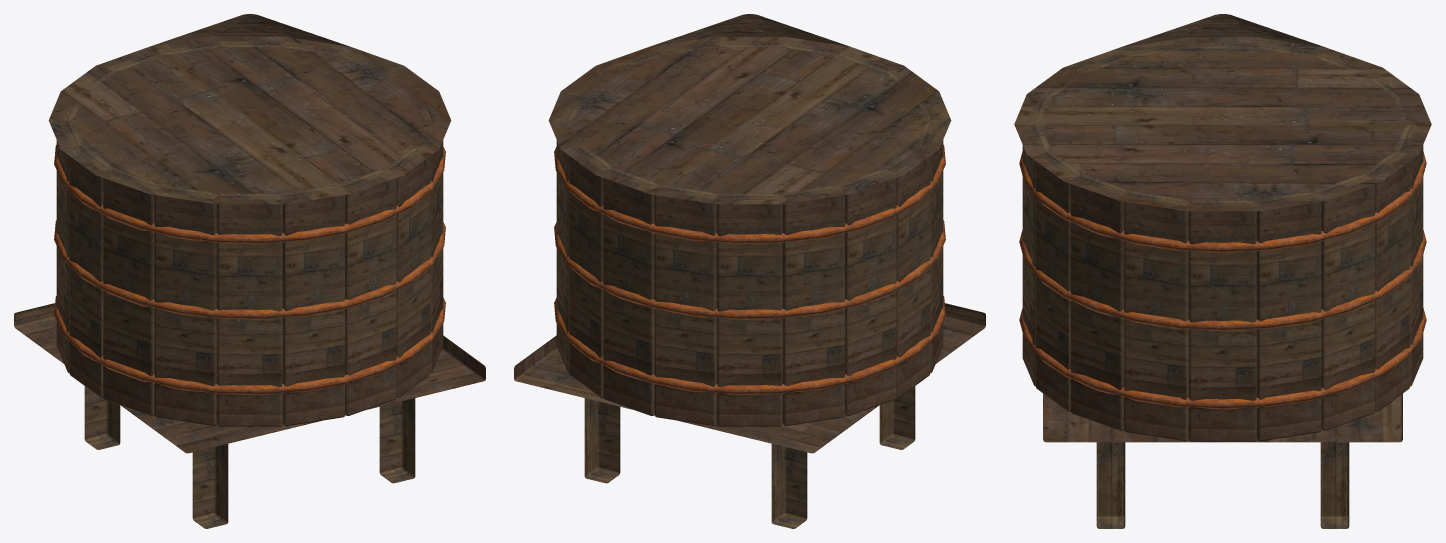
File: roof_tank.glb
3 views of the same model, side by side, from view 1: azimuth 30°, elevation 25°; view 2: azimuth 150°, elevation 25°; view 3: azimuth 270°, elevation 25° (orthographic). The views are drawn at different scales.
Visible parts, largest first — view 1: prop; view 2: prop; view 3: prop.
Part boxes in pixels (x1,y1,x2,y2): prop: (14,14,485,528); prop: (514,14,985,528); prop: (1014,14,1431,528).
Bounding box in the file's own units: 0.5712 × 0.7 × 0.58.
2 materials, 2 textured.
